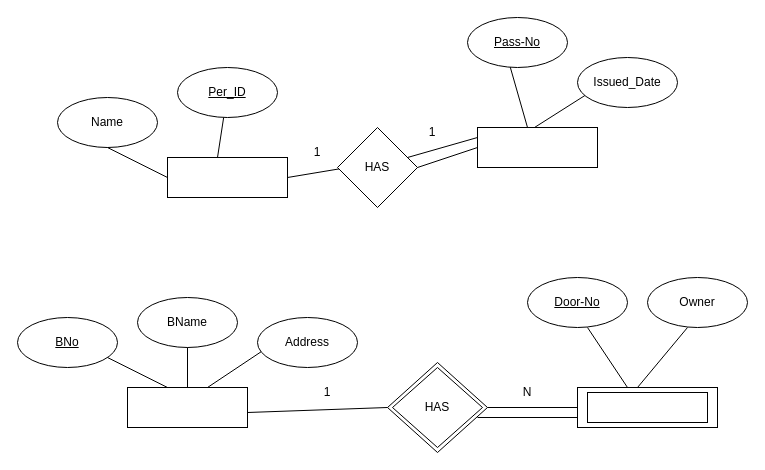
This 765x470 diagram has some shape labels left out. The shapes that lost their labels are listed below. From the top down, each one's centre as x and y in pixels, then its label:
At (x=537, y=147): "Passport".
At (x=227, y=177): "Person".
At (x=187, y=407): "BUILDING".
At (x=647, y=407): "APARTMENT".
